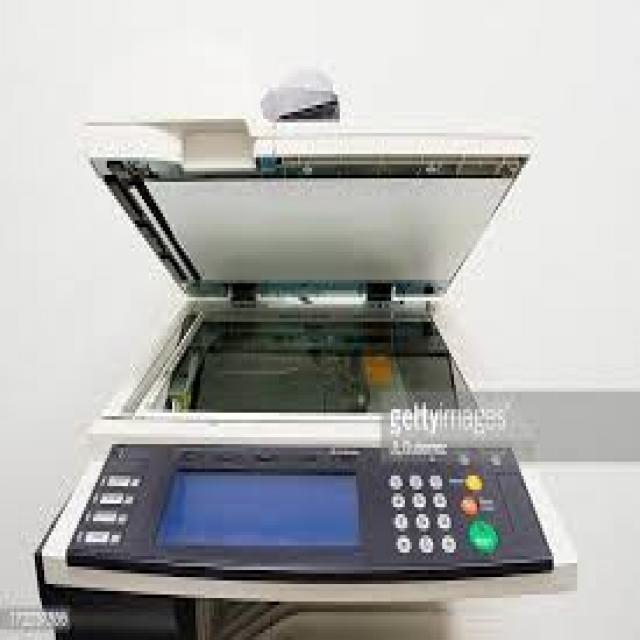printer: (13, 33, 613, 640)
